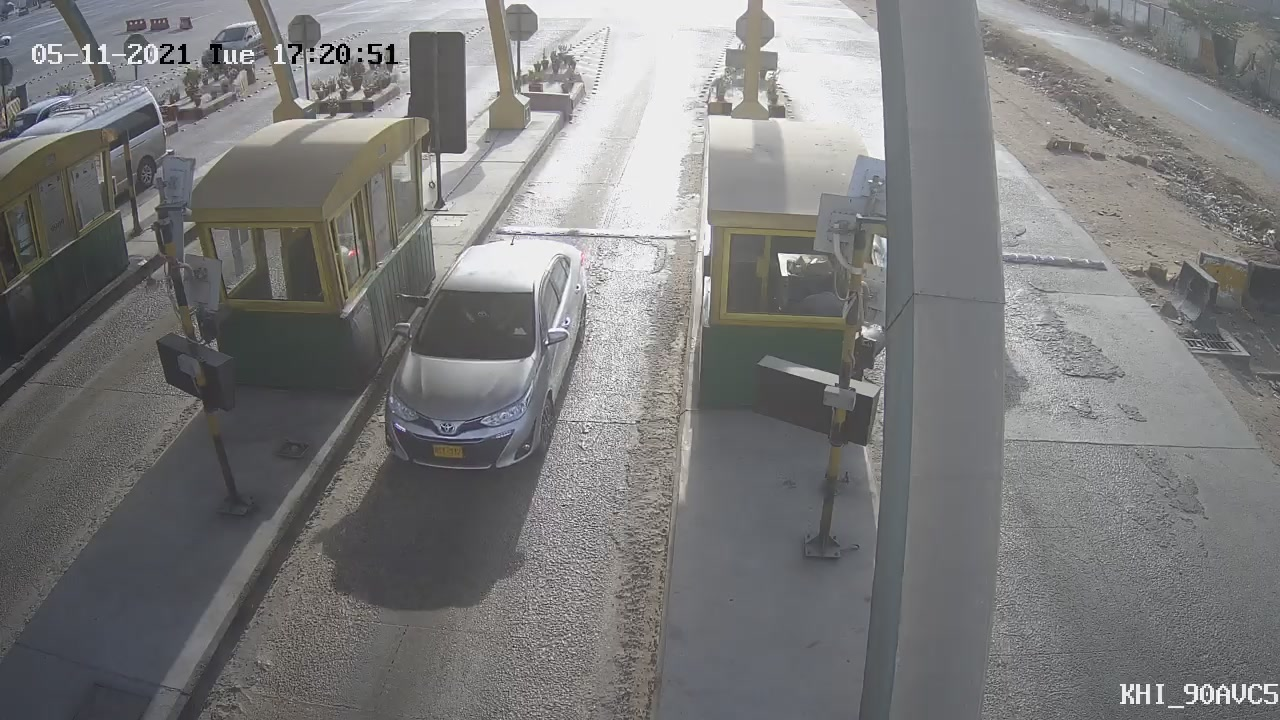F1: (357, 211, 601, 495)
